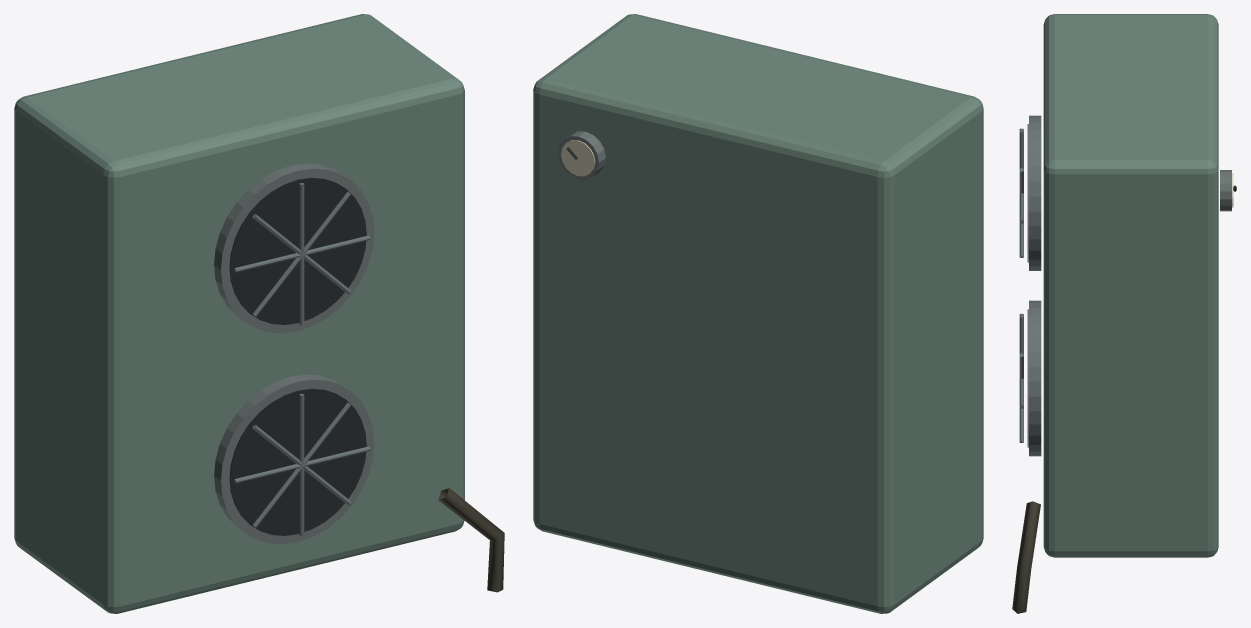
Rendered from vent_unit.glb.
3 renders of one model, left to right at view 1: azimuth 30°, elevation 25°; view 2: azimuth 150°, elevation 25°; view 3: azimuth 270°, elevation 25°, orthographic. The views are drawn at different scales.
Parts seen in each view (by area): view 1: vent_unit; view 2: vent_unit; view 3: vent_unit.
Part boxes in pixels (bbox=[...]): vent_unit: bbox=[14, 14, 504, 613]; vent_unit: bbox=[533, 14, 983, 613]; vent_unit: bbox=[1012, 14, 1236, 613].
Size of the model in its own units: 1.6 by 2 by 0.9229.
